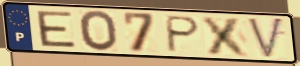7: (122, 11, 158, 54)
E: (34, 10, 78, 49)
O: (78, 9, 121, 53)
P: (165, 14, 202, 54)
V: (246, 16, 286, 61)
X: (199, 15, 252, 58)
